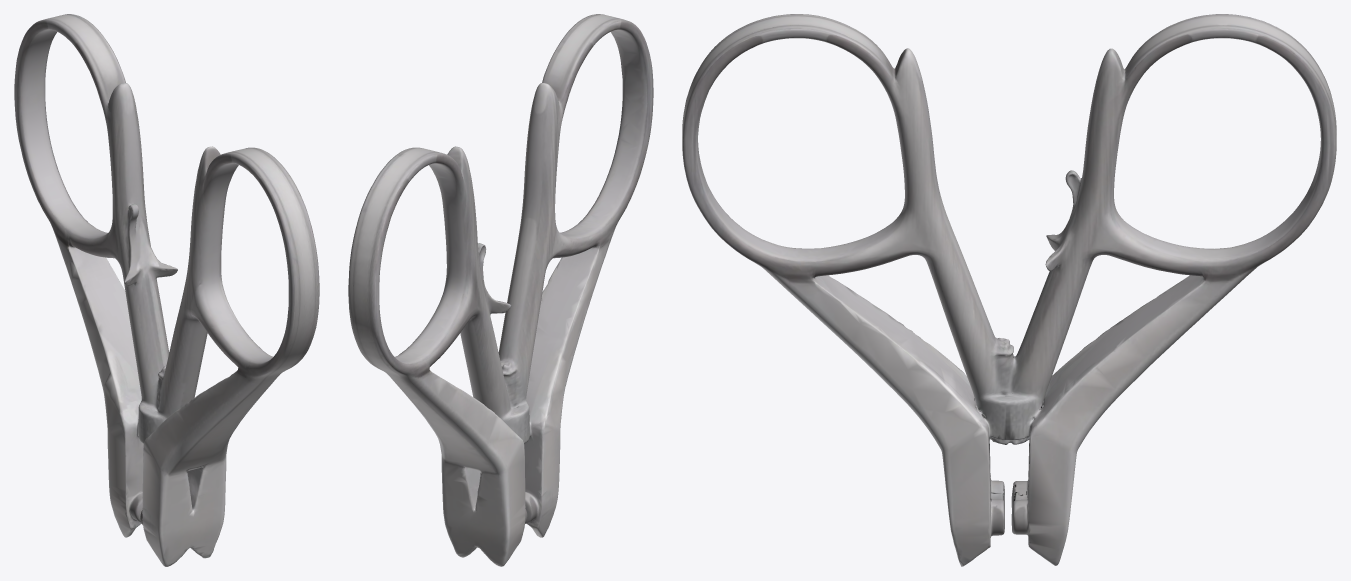
The model's file is vet_equip_retractor_balfour.glb.
The picture shows the model from 3 angles, left to right: view 1: azimuth 30°, elevation 25°; view 2: azimuth 150°, elevation 25°; view 3: azimuth 270°, elevation 25°; orthographic projection. The views are drawn at different scales.
Parts seen in each view (by area): view 1: model; view 2: model; view 3: model.
Part boxes in pixels (left/top/right/bottom): model: left=14, top=14, right=319, bottom=566; model: left=348, top=14, right=653, bottom=566; model: left=682, top=14, right=1336, bottom=566.
Bounding box in the file's own units: 0.2572 × 1.71 × 1.9.
1 material, 1 textured.
